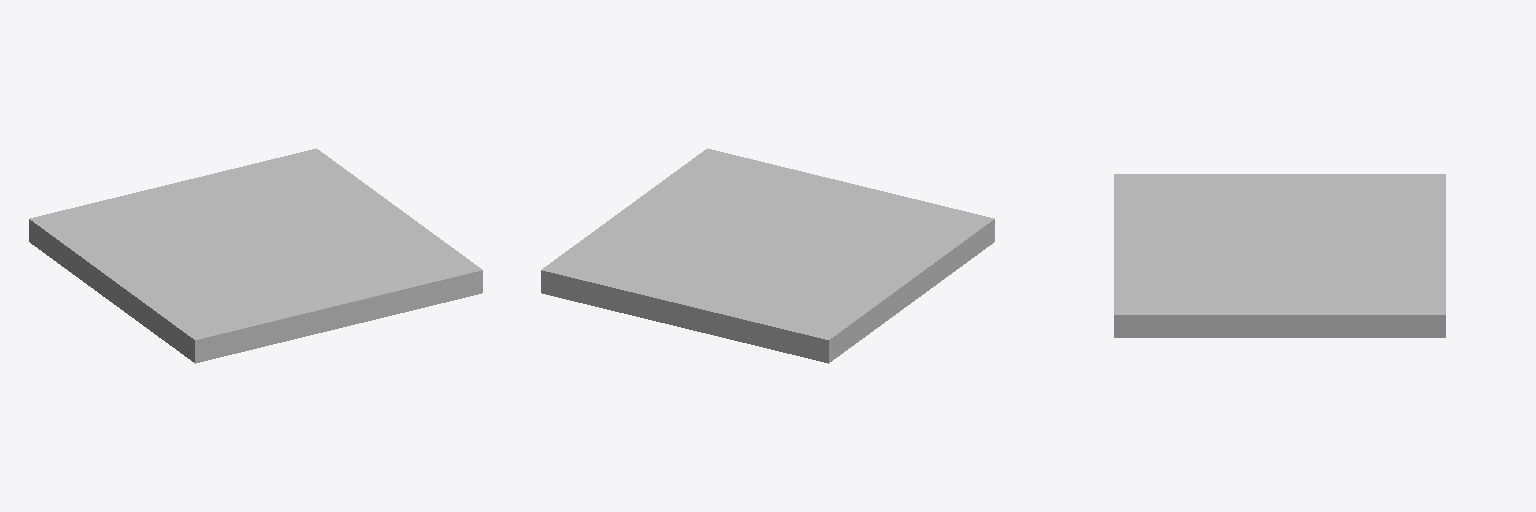
Rendered from corner.obj.
3 views of the same model, side by side, from view 1: azimuth 30°, elevation 25°; view 2: azimuth 150°, elevation 25°; view 3: azimuth 270°, elevation 25° (orthographic).
Parts seen in each view (by area): view 1: object 1; view 2: object 1; view 3: object 1.
Boxes of the visible parts, <box> form: object 1: <box>29,148,482,363</box>; object 1: <box>541,148,994,363</box>; object 1: <box>1114,174,1445,337</box>.
Bounding box in the file's own units: 2.6 × 0.2 × 2.6.